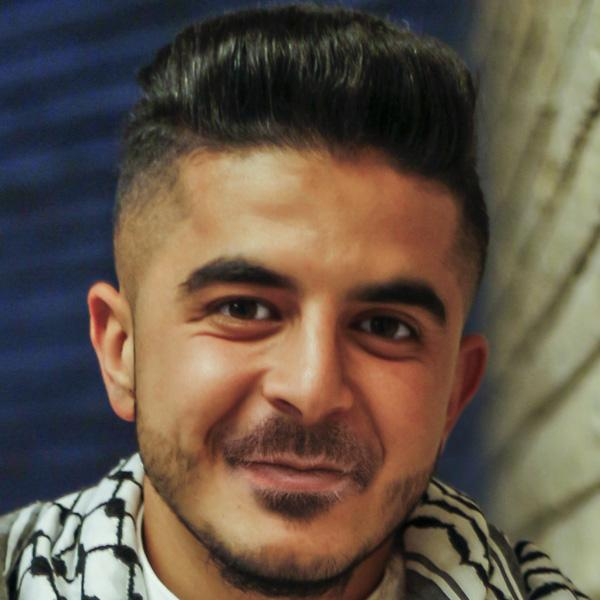Eyes: (196, 285, 293, 341), (341, 299, 428, 356)
